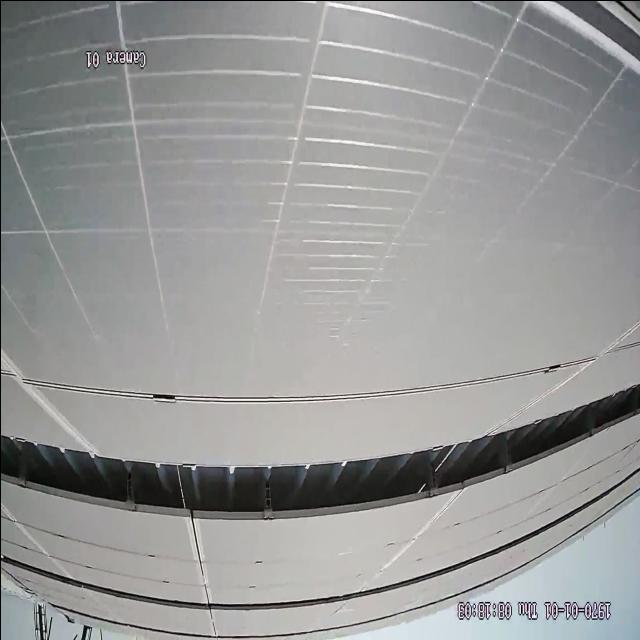interior panel: (37, 352, 587, 414), (0, 356, 83, 439), (549, 1, 640, 63), (186, 518, 214, 602)
outher panel: (1, 381, 640, 518)
